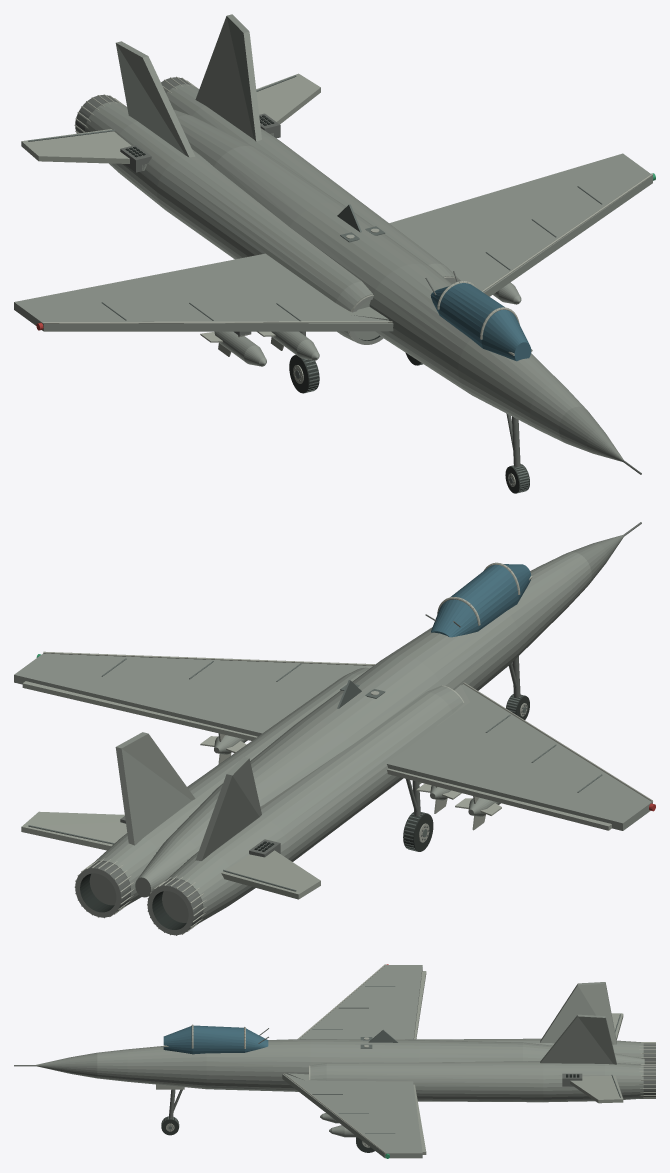
Rendered from spheres-air-tactical-strike.glb.
3 renders of one model, top to bottom at view 1: azimuth 30°, elevation 25°; view 2: azimuth 150°, elevation 25°; view 3: azimuth 270°, elevation 25°, orthographic. The views are drawn at different scales.
Visible parts, largest first — view 1: Spheres tactical strike aircraft; view 2: Spheres tactical strike aircraft; view 3: Spheres tactical strike aircraft.
Boxes of the visible parts, x1,y1,x2,y2 form: Spheres tactical strike aircraft: (14, 14, 655, 493); Spheres tactical strike aircraft: (14, 522, 655, 935); Spheres tactical strike aircraft: (14, 964, 655, 1158).
Size of the model in its own units: 12.44 by 4.08 by 17.73.
